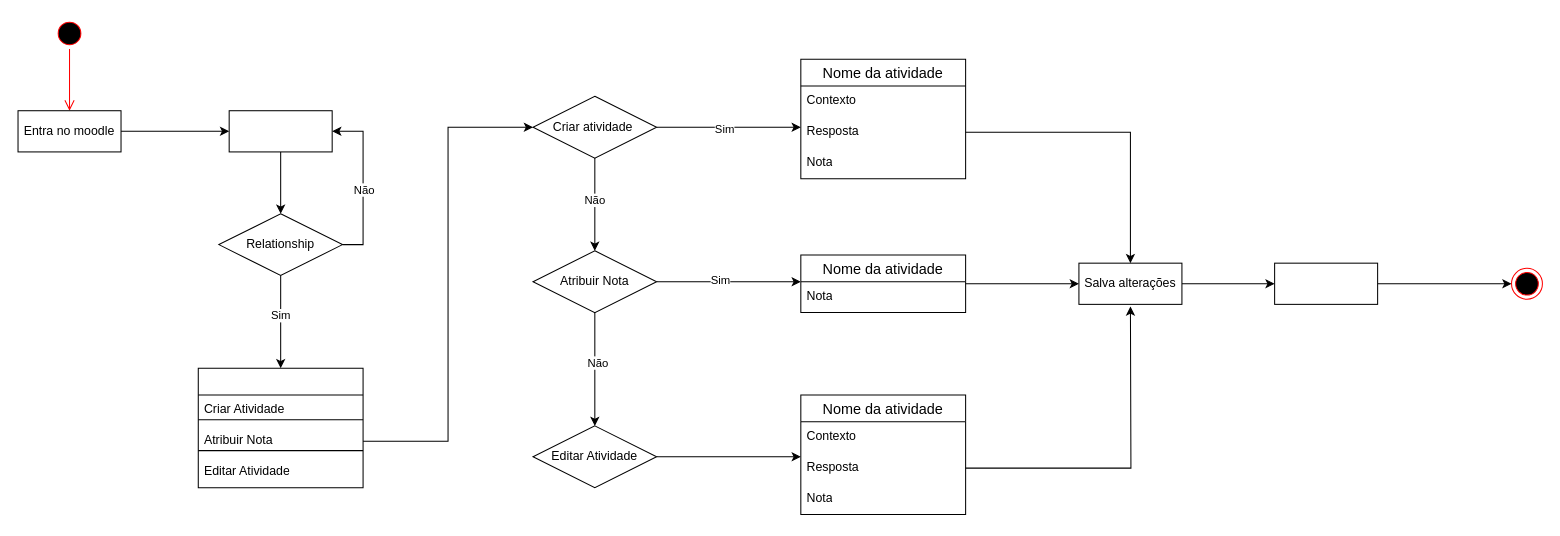
This 1560x536 diagram has some shape labels left out. The box of each missing label's shape, as (x1, y1, x2, y2) in pixels:
Posta alterações: (1274, 262, 1378, 304)
Realiza Login: (228, 110, 332, 152)
Selecione entre:: (197, 367, 363, 488)
